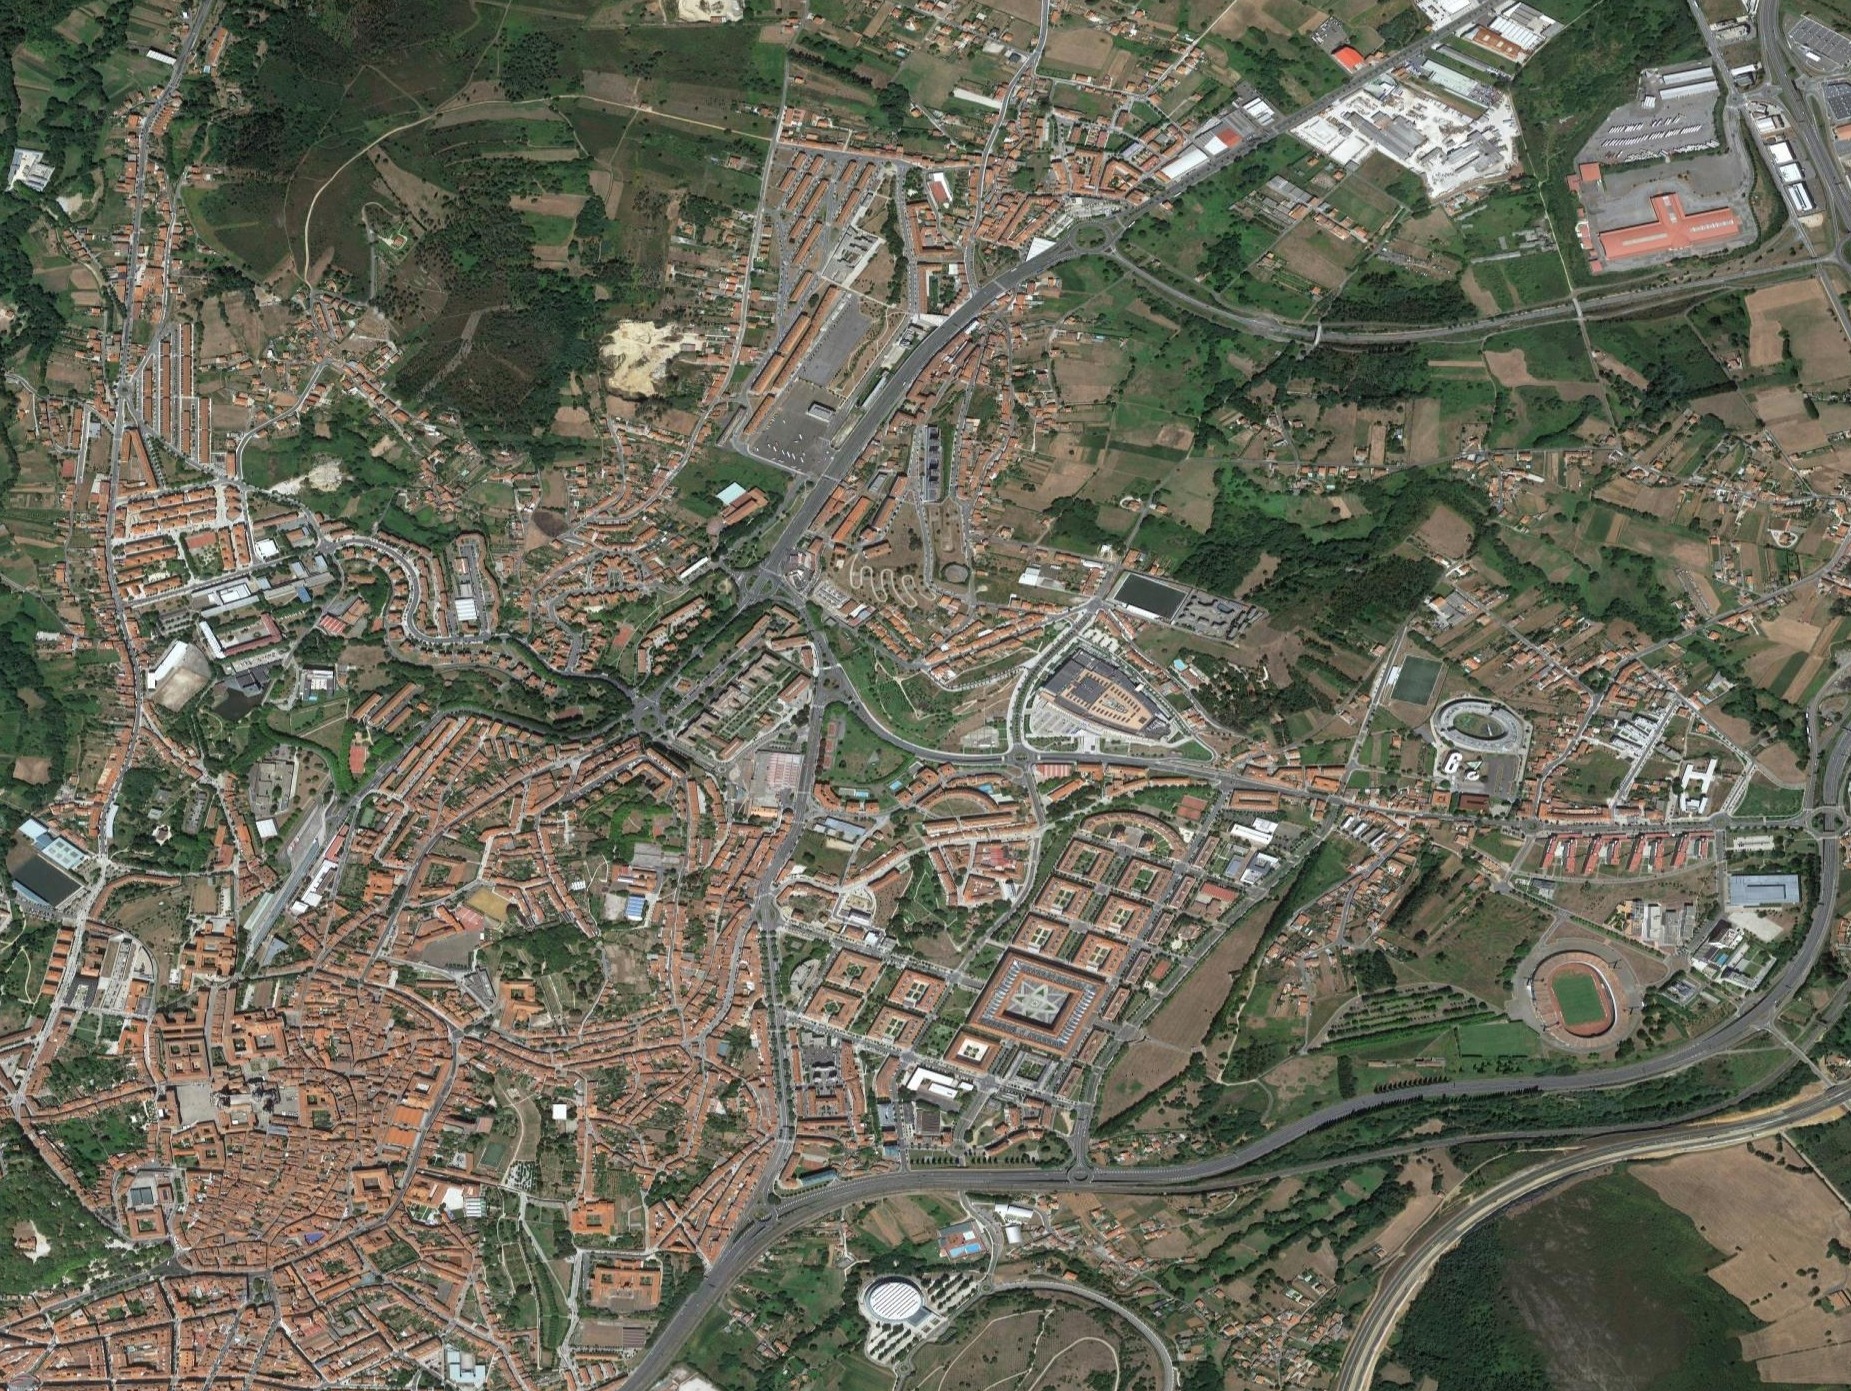industrial: (1327, 63, 1533, 200)
motorway: (744, 248, 1036, 605), (1059, 207, 1610, 384), (565, 1154, 928, 1391), (1329, 1018, 1752, 1135), (925, 1089, 1346, 1204), (1725, 682, 1851, 1017)
